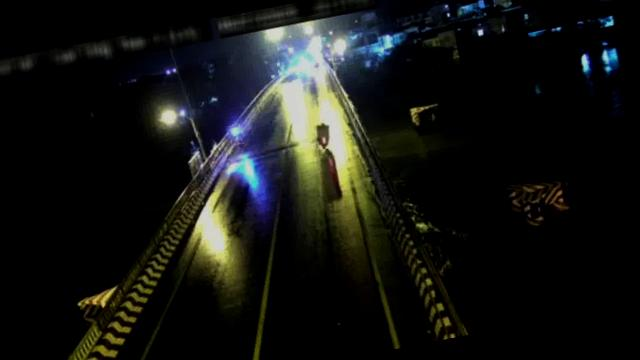Bike: (312, 120, 333, 150), (227, 122, 244, 146)
